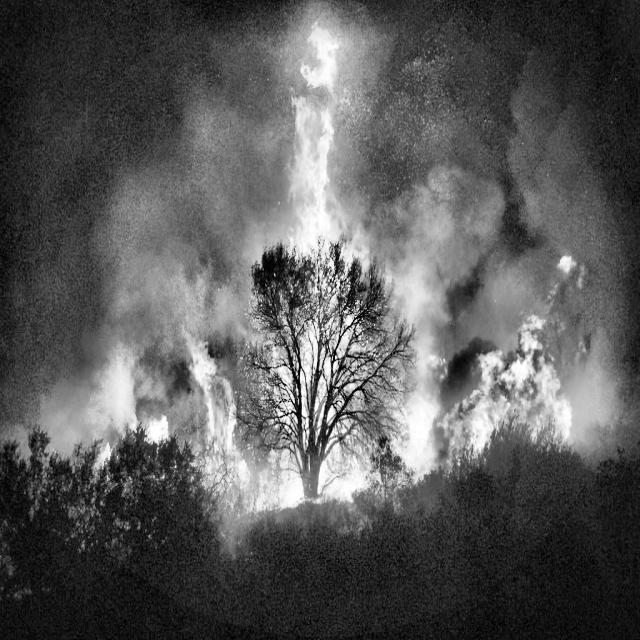fire: (72, 83, 402, 550), (278, 82, 592, 541)
